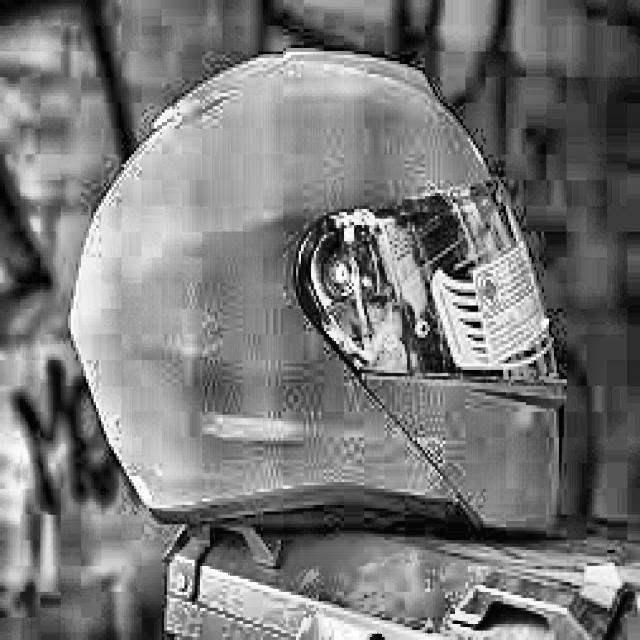Helmet: (71, 37, 584, 547)
